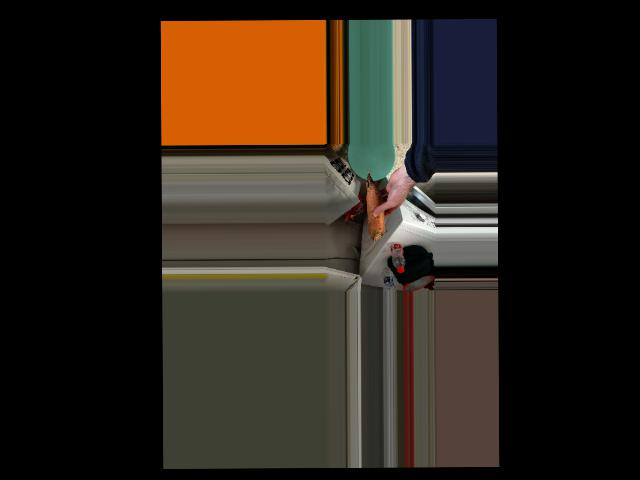sweet_potato: (364, 171, 389, 243)
